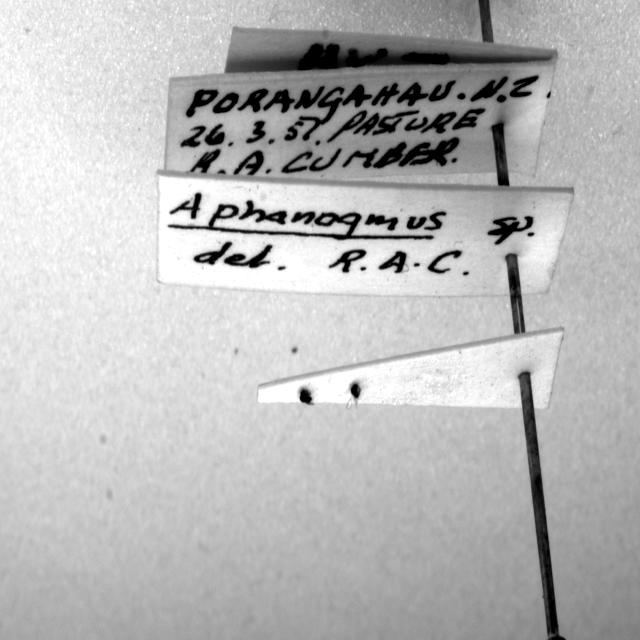hand_label: (156, 171, 574, 296), (165, 58, 555, 180)
